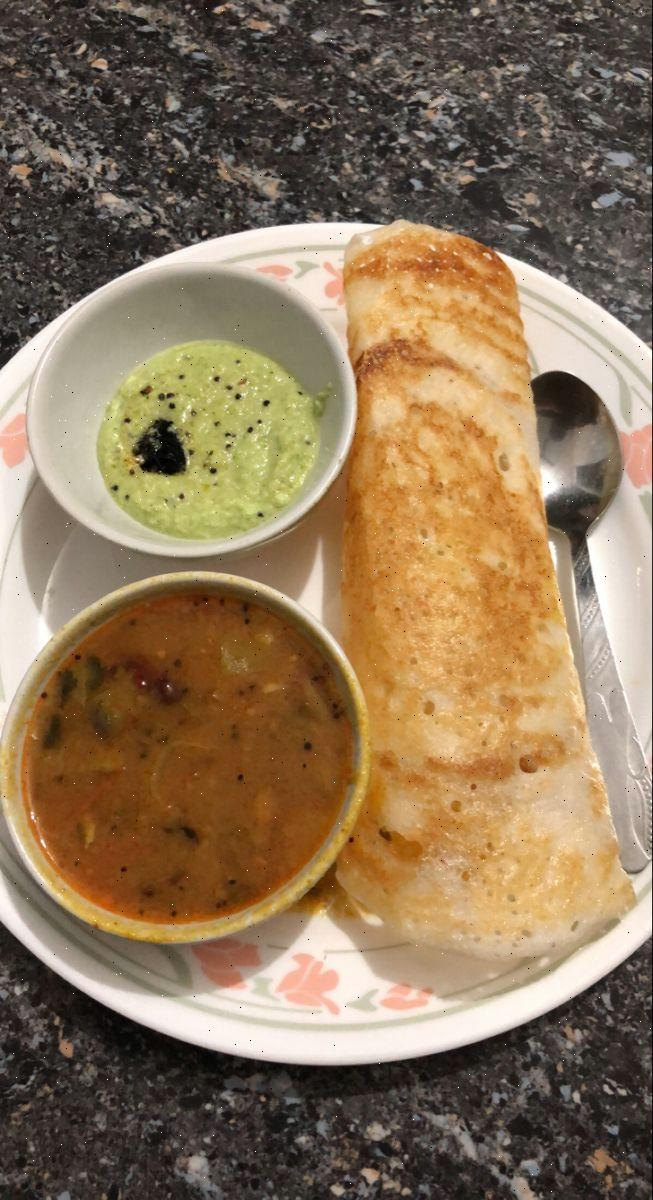dosa: (307, 225, 637, 968)
